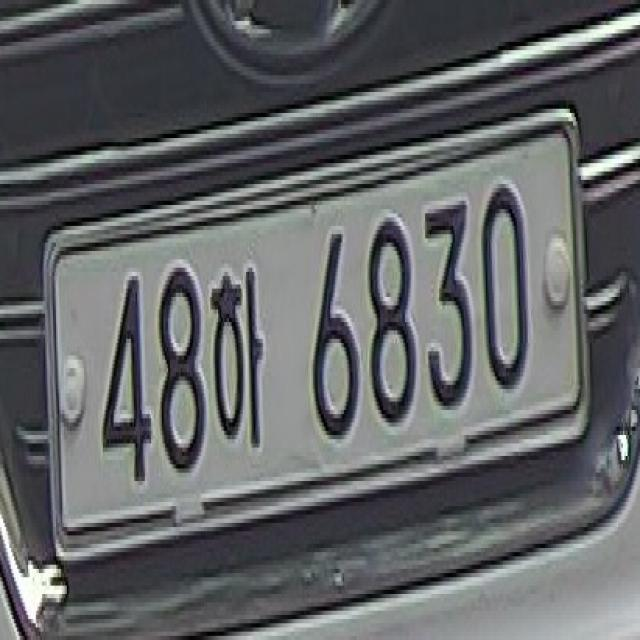0: (477, 168, 536, 406)
3: (419, 185, 476, 428)
4: (94, 262, 152, 502)
6: (304, 215, 362, 459)
8: (363, 210, 420, 438), (156, 256, 208, 504)
ha: (209, 258, 272, 470)
license_plate: (24, 69, 604, 629)
